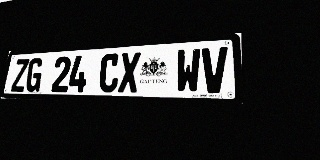2: (51, 56, 72, 92)
4: (68, 55, 89, 92)
C: (98, 53, 120, 92)
G: (25, 58, 44, 92)
V: (201, 47, 228, 93)
W: (175, 48, 201, 93)
X: (118, 52, 141, 93)
Z: (11, 59, 29, 92)
